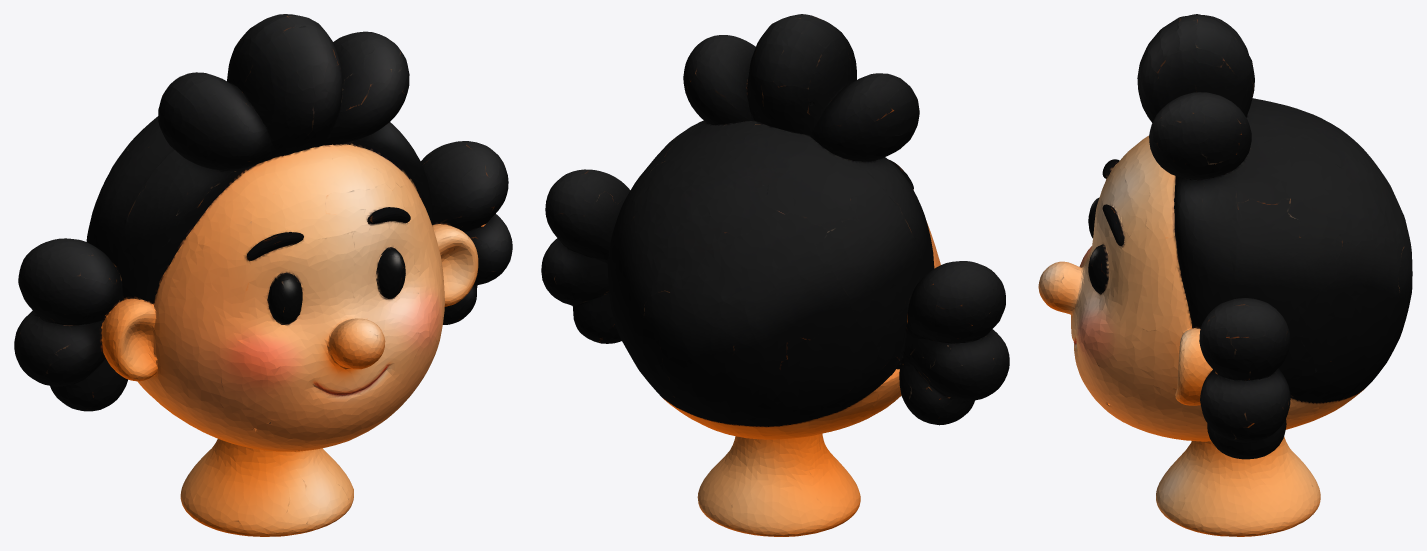
The model's file is AnimePistol_Textured_00089_.glb.
The picture shows the model from 3 angles, left to right: view 1: azimuth 30°, elevation 25°; view 2: azimuth 150°, elevation 25°; view 3: azimuth 270°, elevation 25°; orthographic projection. The views are drawn at different scales.
Parts seen in each view (by area): view 1: world; view 2: world; view 3: world.
Boxes of the visible parts, left/top/right/bottom form: world: left=14, top=14, right=512, bottom=536; world: left=541, top=14, right=1009, bottom=536; world: left=1038, top=14, right=1412, bottom=536.
Size of the model in its own units: 1 by 0.994 by 0.6943.
1 material, 1 textured.
